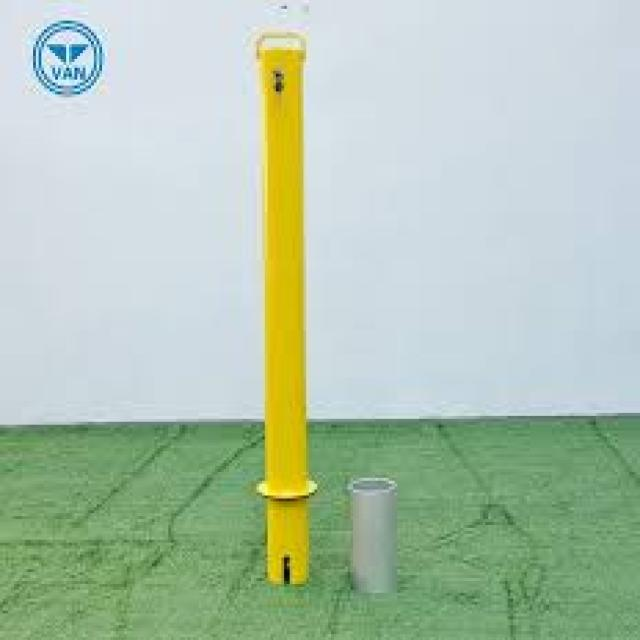bollard: (245, 19, 322, 590)
